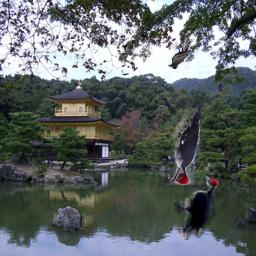Crow: (168, 41, 191, 69)
Woodpecker: (173, 174, 219, 240), (167, 108, 200, 185)
